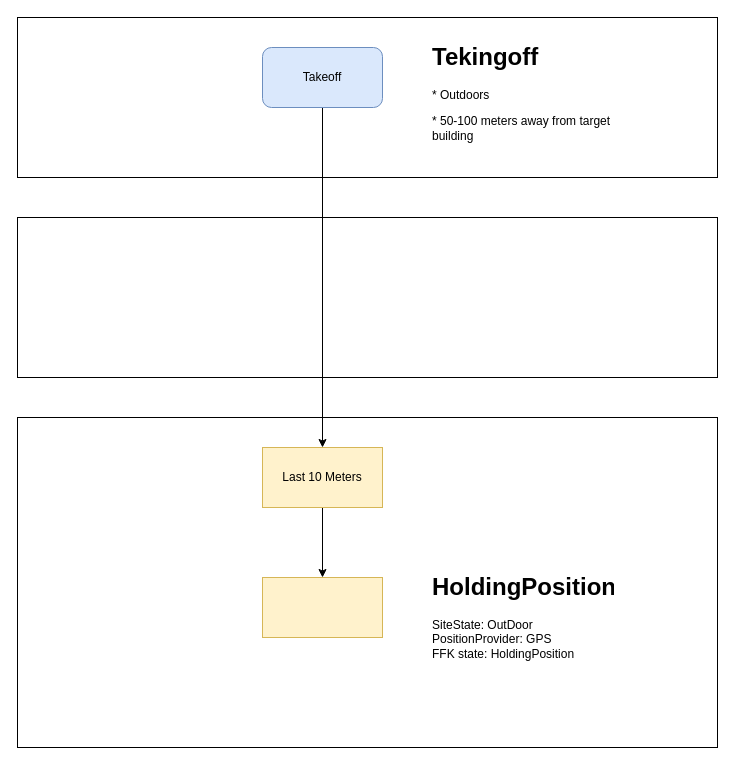
Some shapes in this 735 by 765 pixel diagram are drawn without their labels. Here are the shapes that lost their labels. From the top down, the box of each, then its label:
(16, 216, 718, 378): Manual SiteState: OutDoor PositionProvider: GPS
(262, 576, 382, 638): Suggest to user BEST_ENTRIES based on SightX openinig detections
